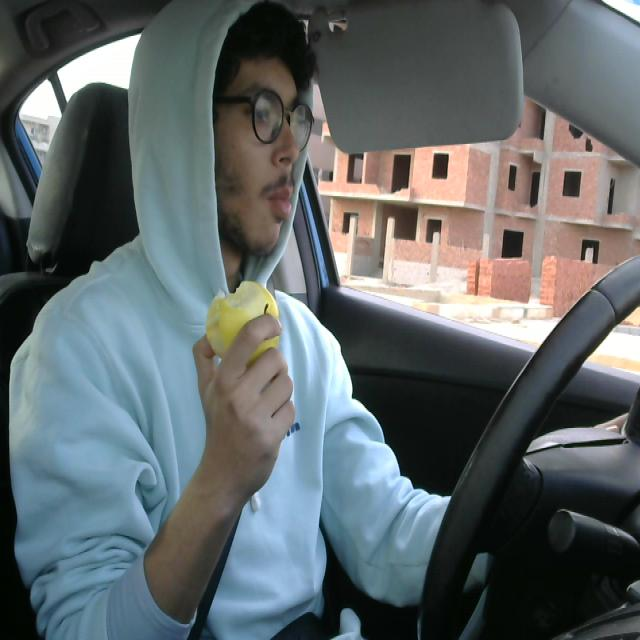eating: (199, 275, 284, 367)
